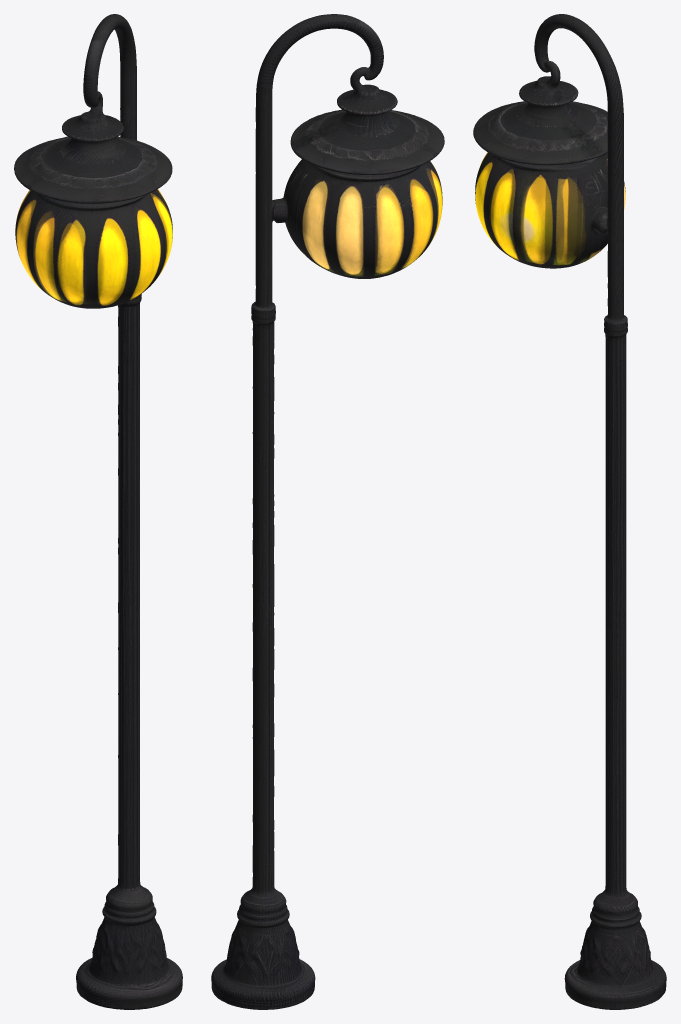
3 renders of one model, left to right at view 1: azimuth 30°, elevation 25°; view 2: azimuth 150°, elevation 25°; view 3: azimuth 270°, elevation 25°, orthographic. The views are drawn at different scales.
Bounding box in the file's own units: 0.3718 × 1.9 × 0.3503.
1 material, 1 textured.
